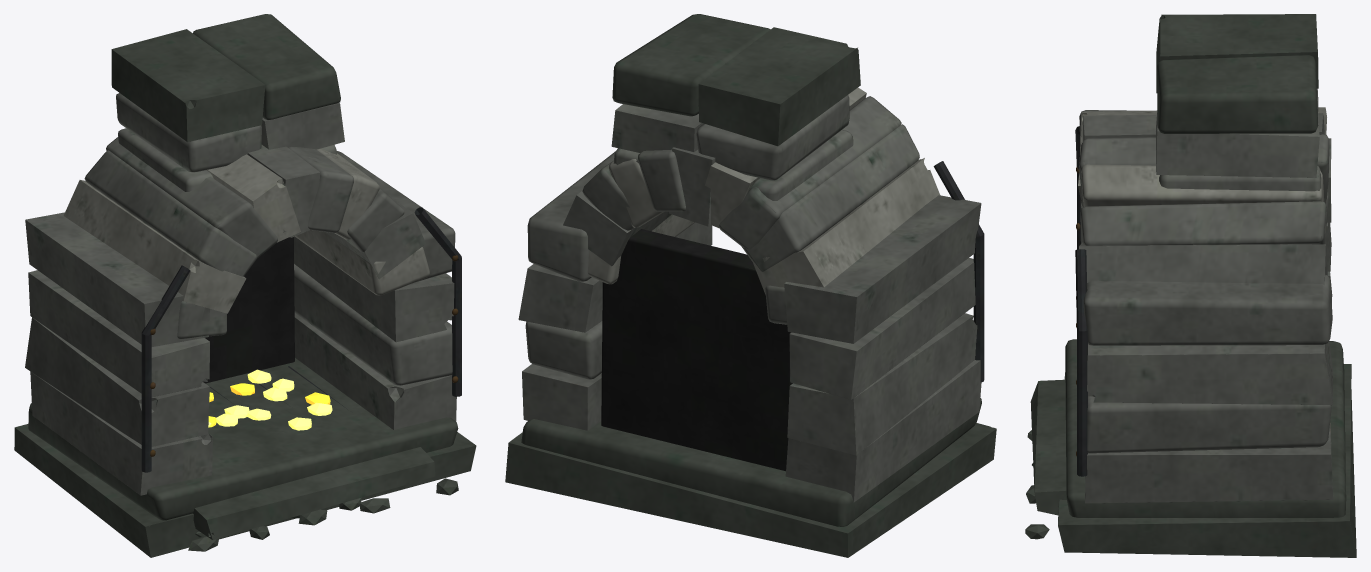
Rendered from furnace.glb.
3 renders of one model, left to right at view 1: azimuth 30°, elevation 25°; view 2: azimuth 150°, elevation 25°; view 3: azimuth 270°, elevation 25°, orthographic. The views are drawn at different scales.
Visible parts, largest first — view 1: Body_Baked.040, Body_Glow.014, Body_Glow; view 2: Body_Baked.040; view 3: Body_Baked.040.
Part boxes in pixels (x1,y1,x2,y2): Body_Baked.040: [14, 14, 476, 557]; Body_Glow.014: [208, 369, 332, 430]; Body_Glow: [208, 383, 330, 427]; Body_Baked.040: [505, 14, 996, 557]; Body_Baked.040: [1025, 14, 1356, 557].
Bounding box in the file's own units: 2.53 × 2.98 × 2.1.
3 materials, 1 textured.
